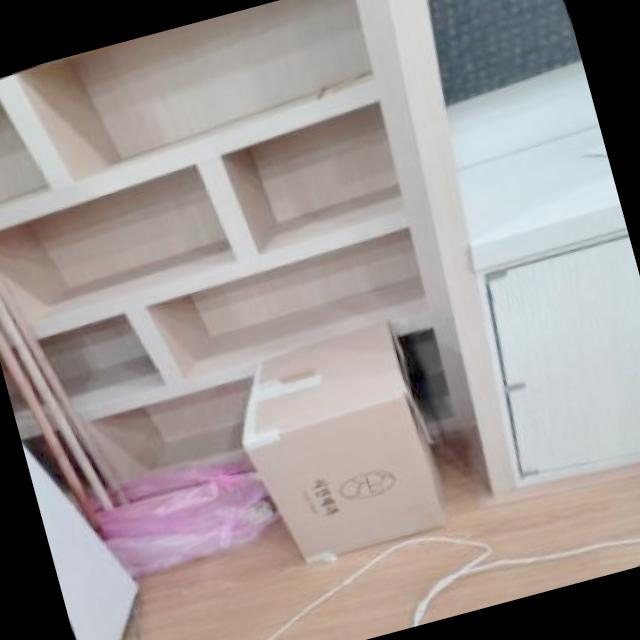box: (196, 286, 492, 603)
